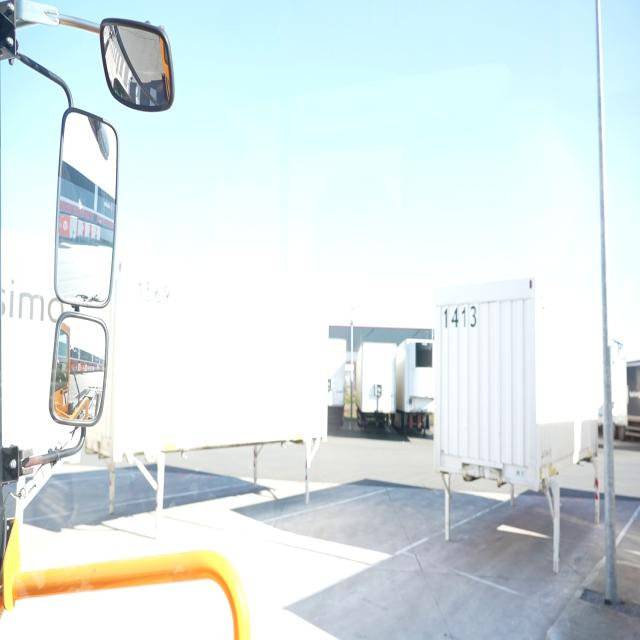Code: (440, 301, 478, 335)
